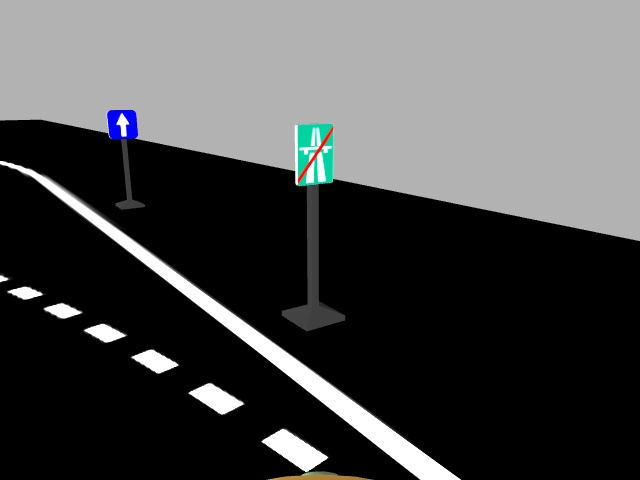HighwayExit: (291, 121, 334, 185)
OneWay: (104, 108, 139, 140)
